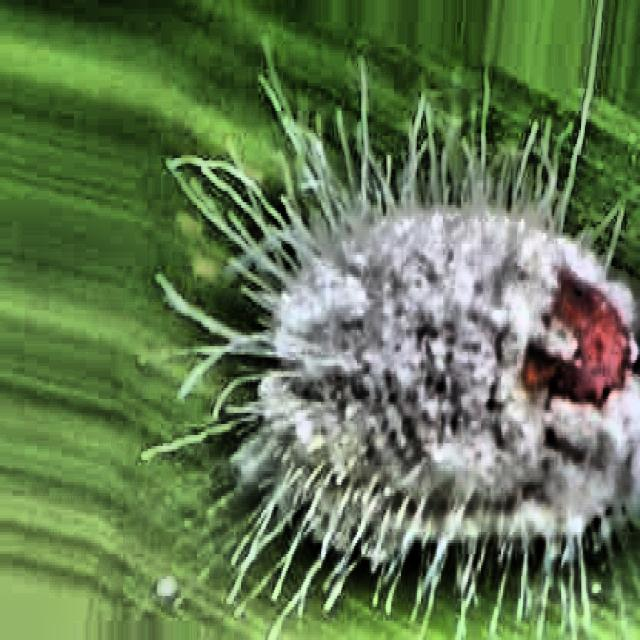Mealy-bug: (157, 16, 640, 606)
